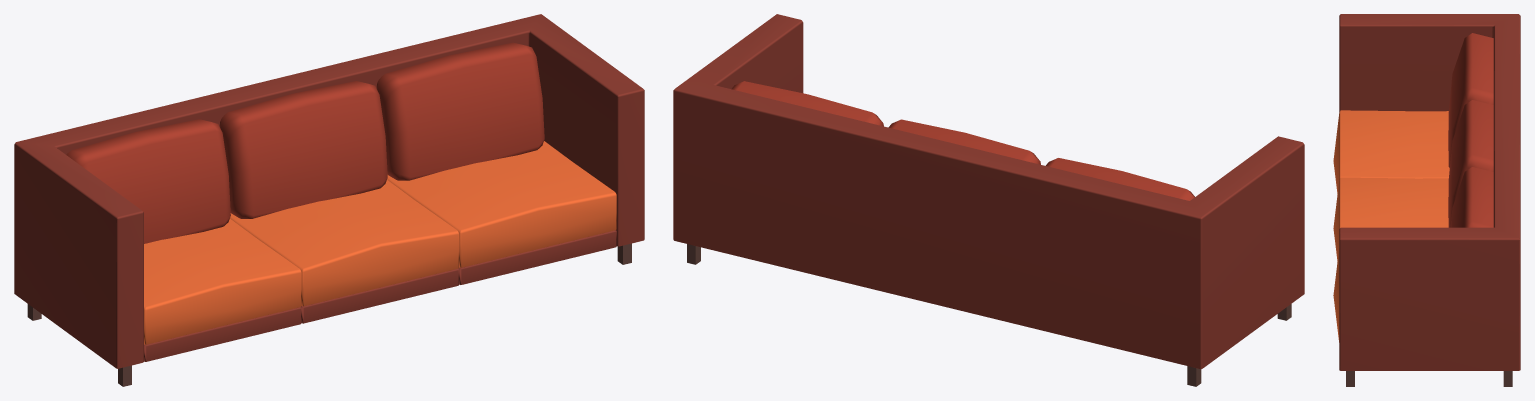
The model's file is SM_GameArea_Sofa_03.fbx.
The picture shows the model from 3 angles, left to right: view 1: azimuth 30°, elevation 25°; view 2: azimuth 150°, elevation 25°; view 3: azimuth 270°, elevation 25°; orthographic projection. The views are drawn at different scales.
Visible parts, largest first — view 1: SM_GameArea_Sofa_03; view 2: SM_GameArea_Sofa_03; view 3: SM_GameArea_Sofa_03.
Part boxes in pixels (box(x1,y1,x2,y2)): SM_GameArea_Sofa_03: box(14, 14, 644, 386); SM_GameArea_Sofa_03: box(673, 14, 1304, 386); SM_GameArea_Sofa_03: box(1333, 14, 1520, 386).
Size of what is drawn, in the model's own units: 1292 by 410 by 453.
